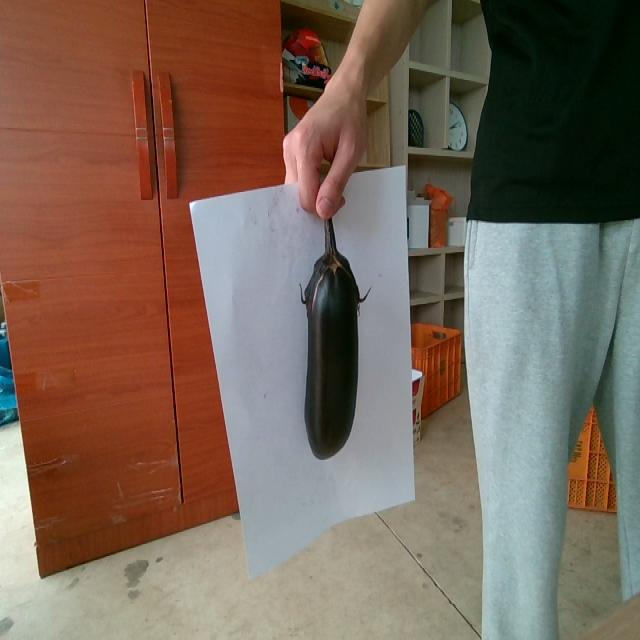Egg plant: (301, 219, 367, 457)
